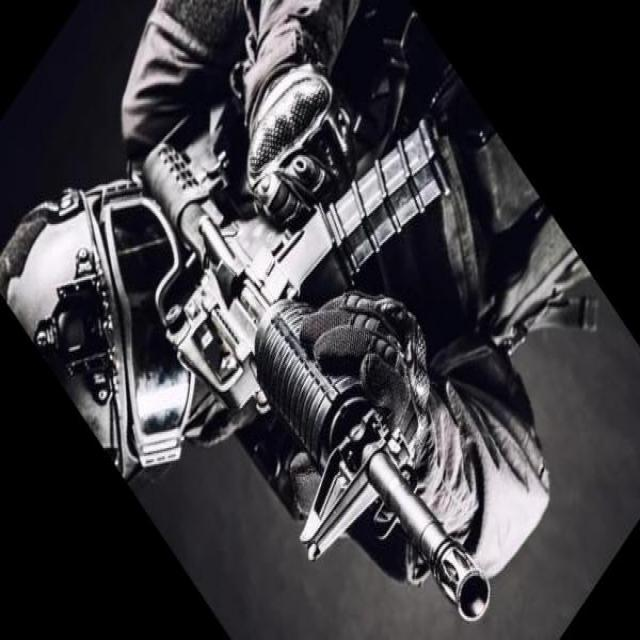weapon: (132, 117, 492, 626)
